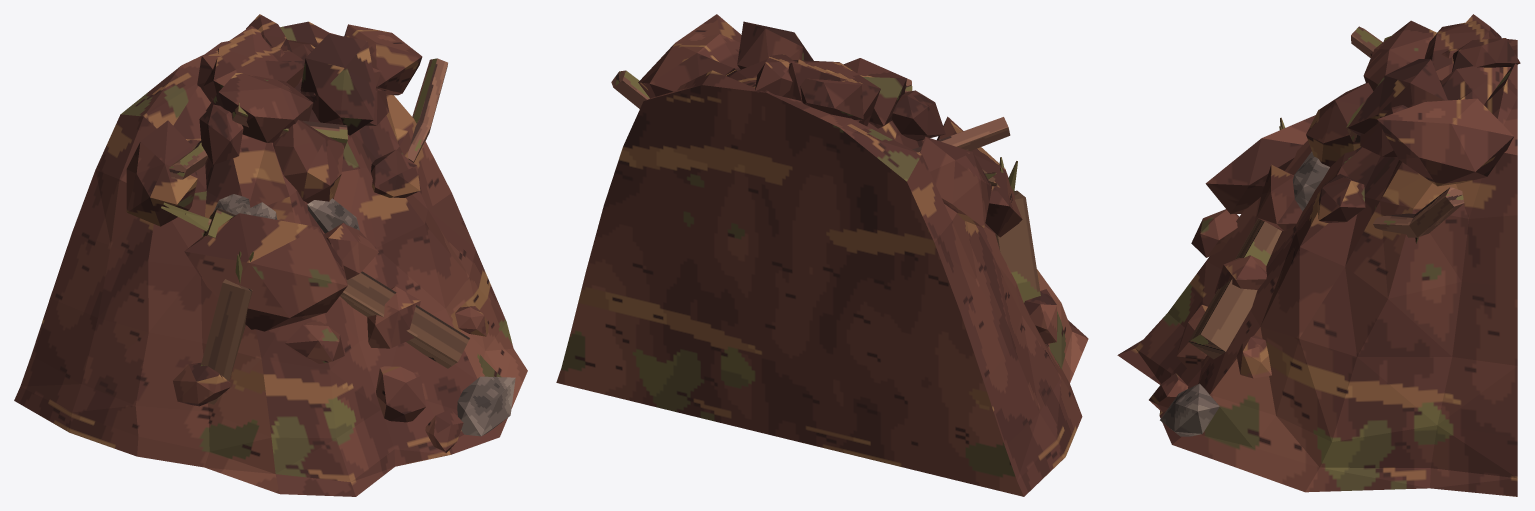
Rendered from SM_AN42_Rubble.fbx.
3 views of the same model, side by side, from view 1: azimuth 30°, elevation 25°; view 2: azimuth 150°, elevation 25°; view 3: azimuth 270°, elevation 25° (orthographic). The views are drawn at different scales.
Visible parts, largest first — view 1: AN42a_Earth, AN42a_Wood, AN42a_Props, AN42a_Root; view 2: AN42a_Earth, AN42a_Wood, AN42a_Root; view 3: AN42a_Earth, AN42a_Wood, AN42a_Props, AN42a_Root.
Boxes of the visible parts, x1,y1,x2,y2 form: AN42a_Earth: (14, 14, 527, 496); AN42a_Wood: (161, 202, 469, 404); AN42a_Props: (213, 194, 515, 436); AN42a_Root: (169, 58, 447, 179); AN42a_Earth: (556, 14, 1088, 496); AN42a_Wood: (982, 157, 1040, 302); AN42a_Root: (611, 70, 1010, 152); AN42a_Earth: (1117, 14, 1520, 496); AN42a_Wood: (1188, 117, 1285, 359); AN42a_Props: (1160, 151, 1329, 436); AN42a_Root: (1346, 26, 1464, 243).
Size of the model in its own units: 2.15 by 1.61 by 1.63.
